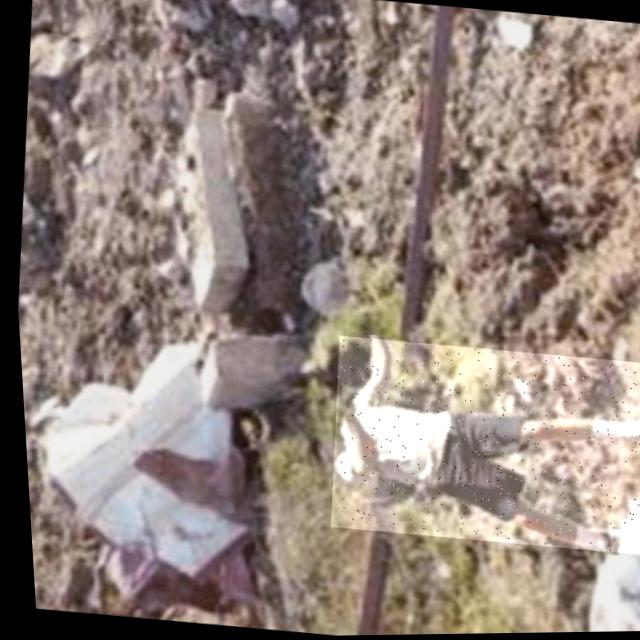Person in Rubble: (315, 332, 640, 560)
